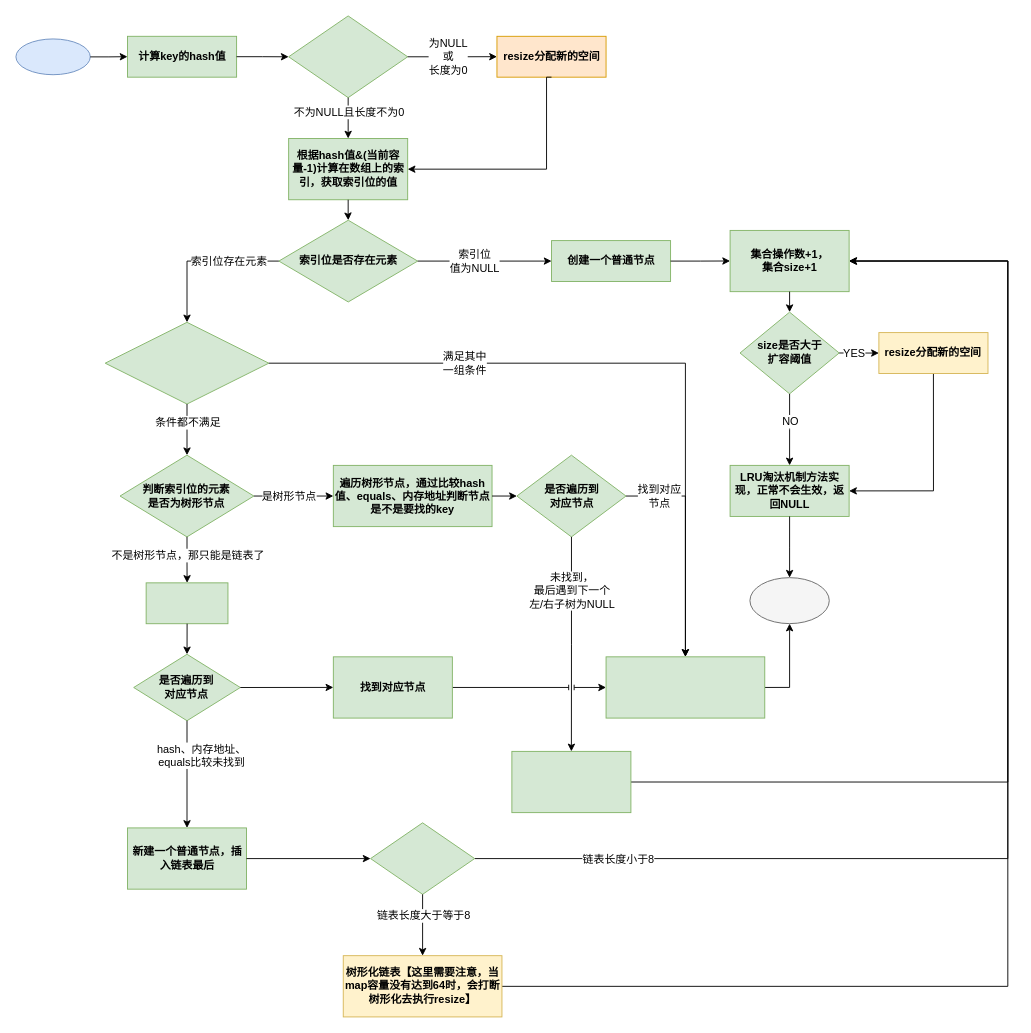
Some shapes in this 1031 by 1033 pixel diagram are drawn without their labels. Here are the shapes that lost their labels. From the top down, the centre of each, then its label:
the point at 52,56: START
the point at 348,56: 判断map的数组是否为NULL或长度为0
the point at 186,362: 索引位的元素hash值与内存值是否一样，或者key不为NULL的情况下equals返回true
the point at 186,603: 遍历链表
the point at 789,600: END
the point at 685,687: 获取旧value，设置新value，并将key所在节点移到链表最后，返回旧value
the point at 571,781: 新建一个树形节点，并平衡树形分支，返回NULL
the point at 422,858: 链表大小是否 大于等于8
